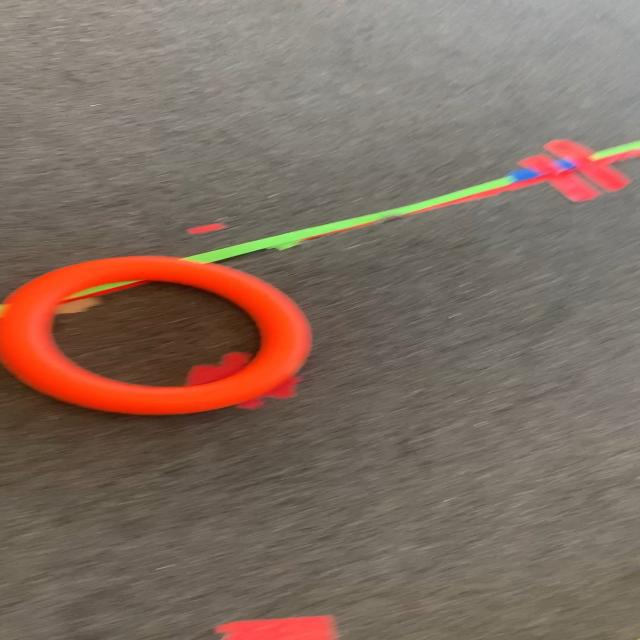notes: (0, 254, 314, 414)
